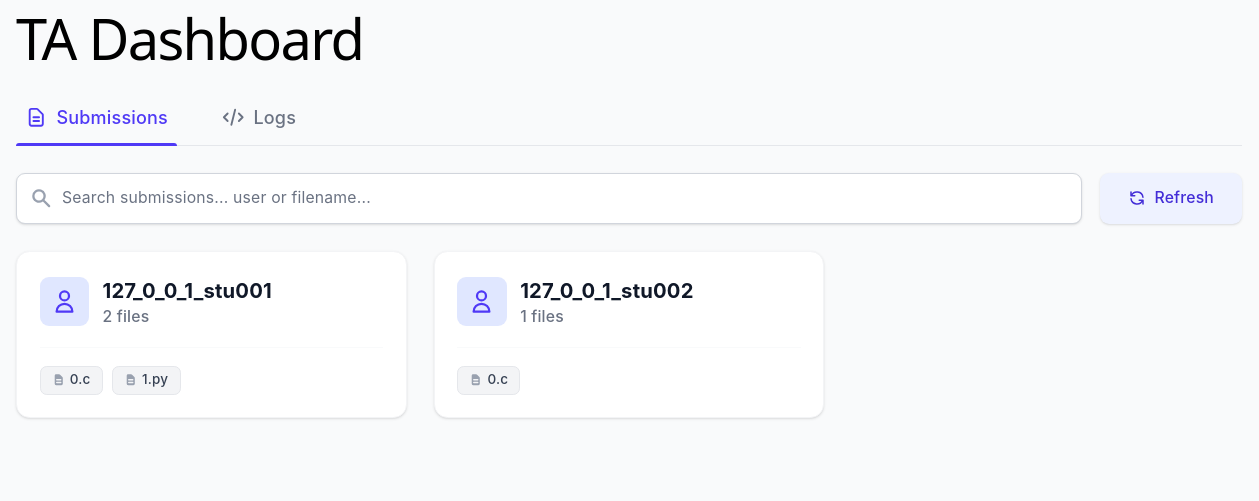
Test case: DashboardPage › should show no submissions message when search has no match
In the field with test id "search-input": (549, 198) [16, 173, 1082, 224], type "nonexistent"
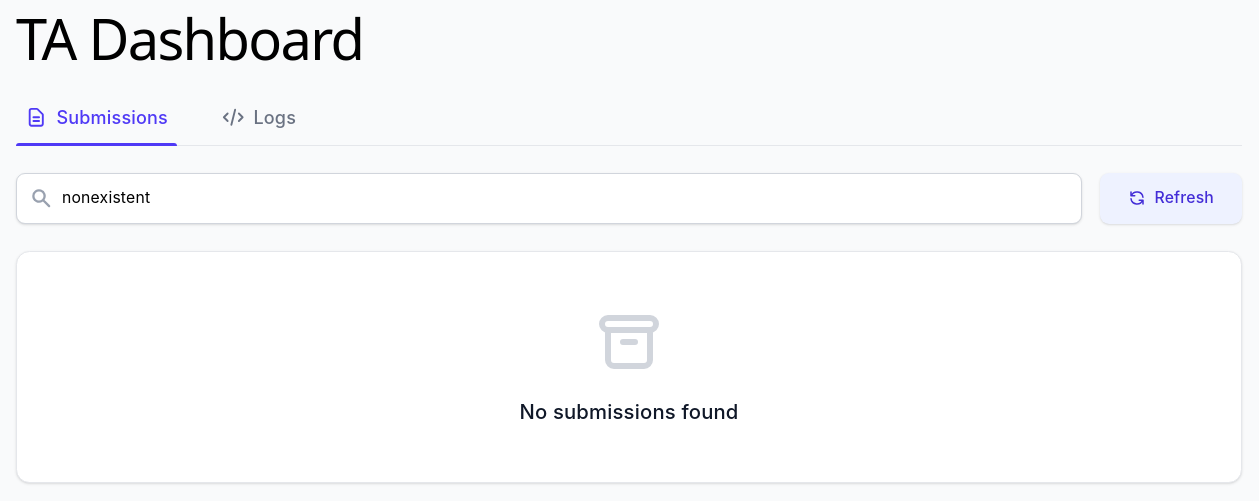
Check: the element with test id "no-submissions" is shown, box [16, 251, 1242, 483]
